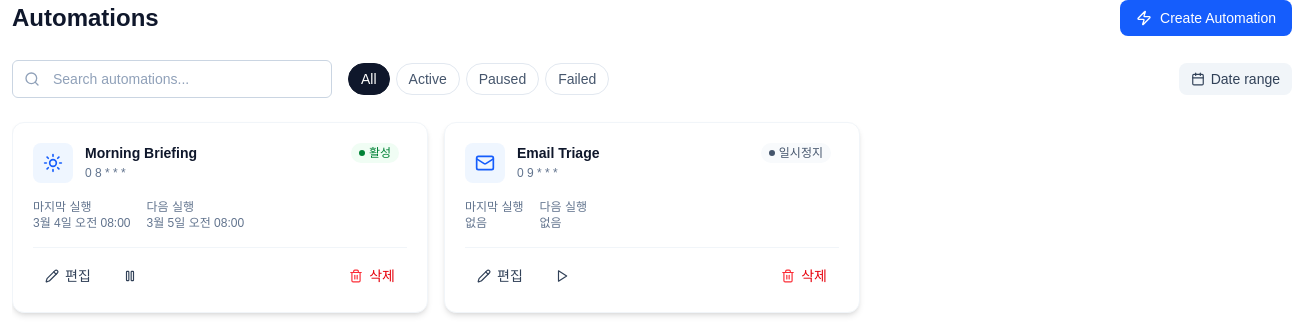
Test: AutomationsPage — TC-3006, TC-3007 › FilterBar status filter: clicking 'Active' shows only active automations
Expected: the text "Email Triage" is shown, 517,145 -> 600,161
Click the radio button labelled "Active": coordinates (428, 79) 396,63 -> 460,95
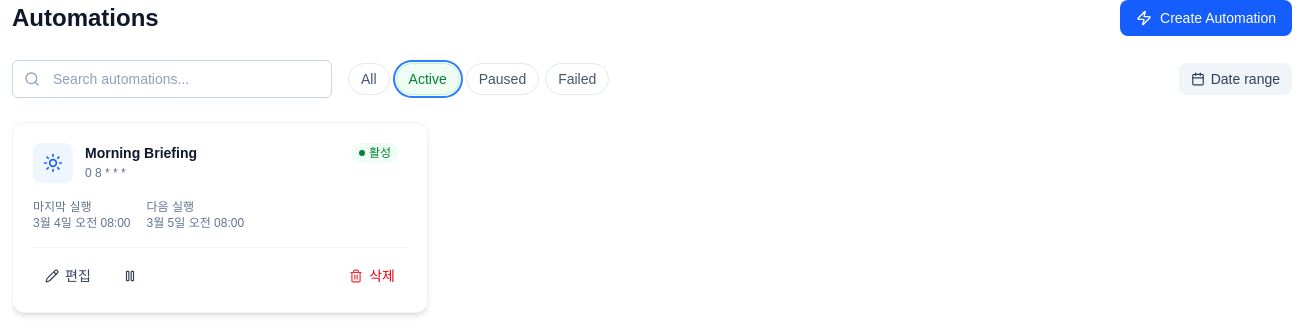
Expected: the text "Morning Briefing" is shown, 85,145 -> 197,161
Expected: the button "Email Triage" is gone
